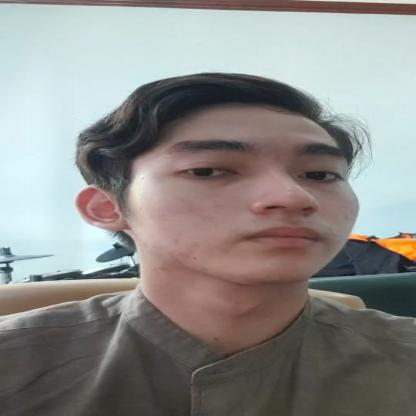Palm: (38, 58, 415, 315)
